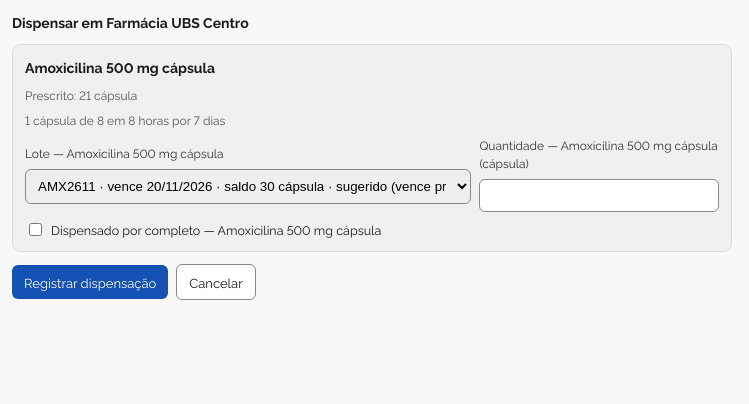
Test: DispenseForm › insufficient_balance: relê os lotes e mantém o que foi digitado; too_early com a data
The image size is (749, 404).
Type "21" into the field labelled "Quantidade — Amoxicilina 500 mg cápsula (cápsula)" at point(599, 196), box [479,179,719,212]
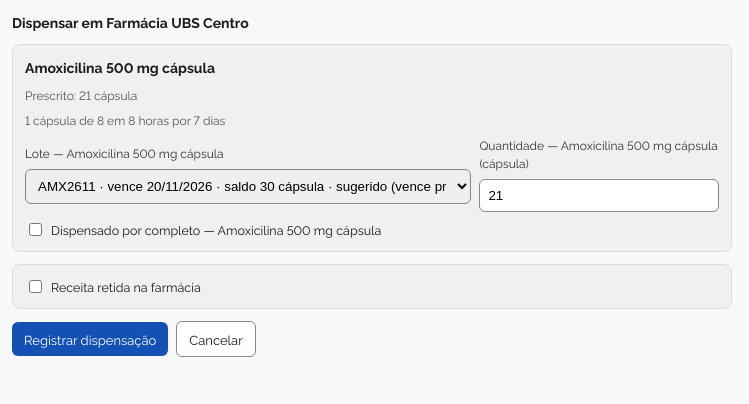
Click the checkbox labelled "Receita retida na farmácia" at point(36, 287), box [29,280,42,293]
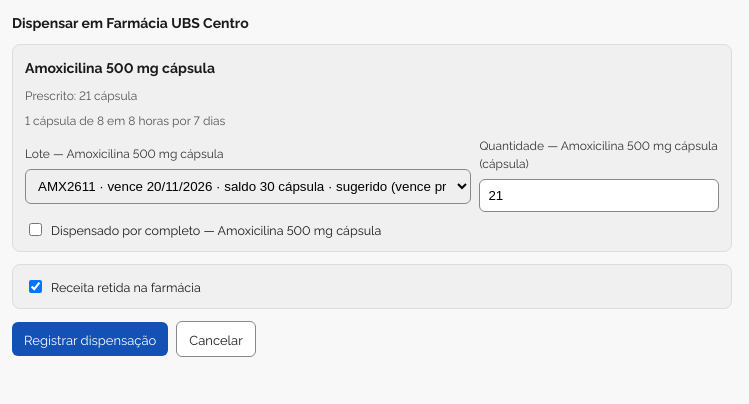
Click the button "Registrar dispensação" at point(90, 339), box [12,322,168,356]
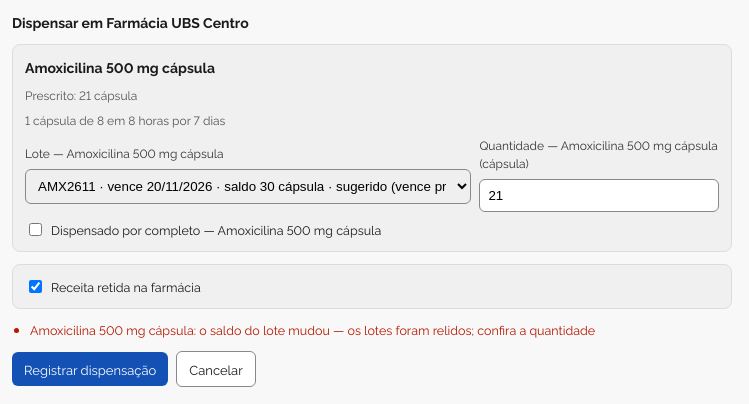
Expected: the list item "o saldo do lote mudou — os lotes foram relidos; confira a quantidade" is shown, [199,321,595,338]
Click the button "Registrar dispensação" at point(90, 369), box [12,352,168,386]
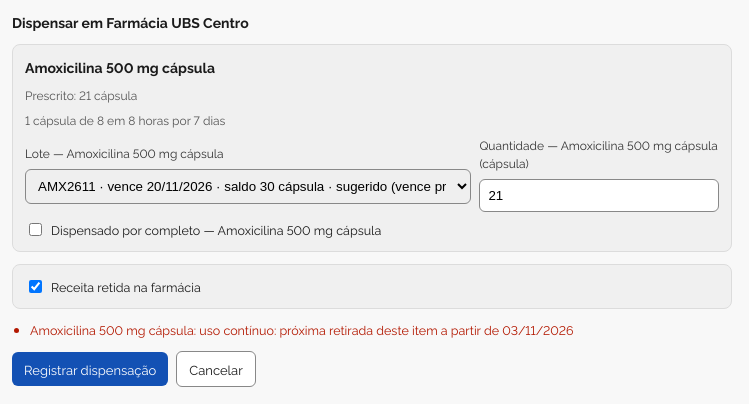
Expected: the list item "uso contínuo: próxima retirada deste item a partir de 03/11/2026" is shown, [199,321,574,338]
